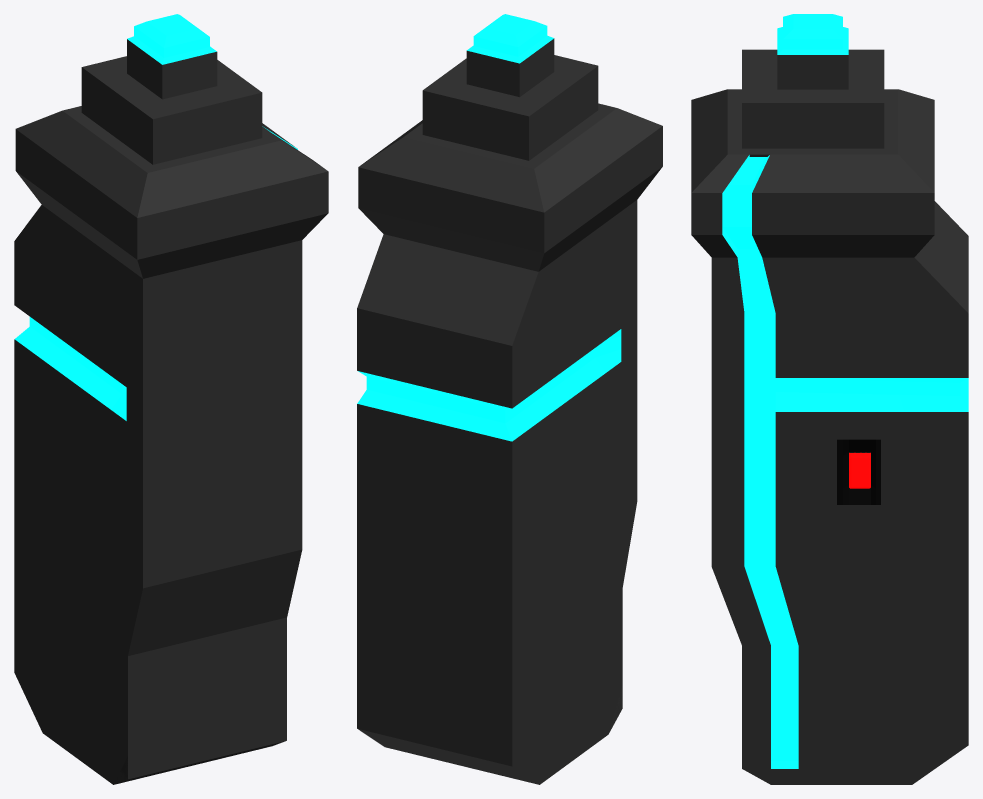
Rendered from GrappleHandle.fbx.
3 views of the same model, side by side, from view 1: azimuth 30°, elevation 25°; view 2: azimuth 150°, elevation 25°; view 3: azimuth 270°, elevation 25° (orthographic). The views are drawn at different scales.
Parts seen in each view (by area): view 1: GrappleHandle; view 2: GrappleHandle; view 3: GrappleHandle.
Part boxes in pixels (<box>): GrappleHandle: <box>14,14,328,784</box>; GrappleHandle: <box>357,14,662,784</box>; GrappleHandle: <box>691,14,968,784</box>.
Bounding box in the file's own units: 11.59 × 42.03 × 14.58.
